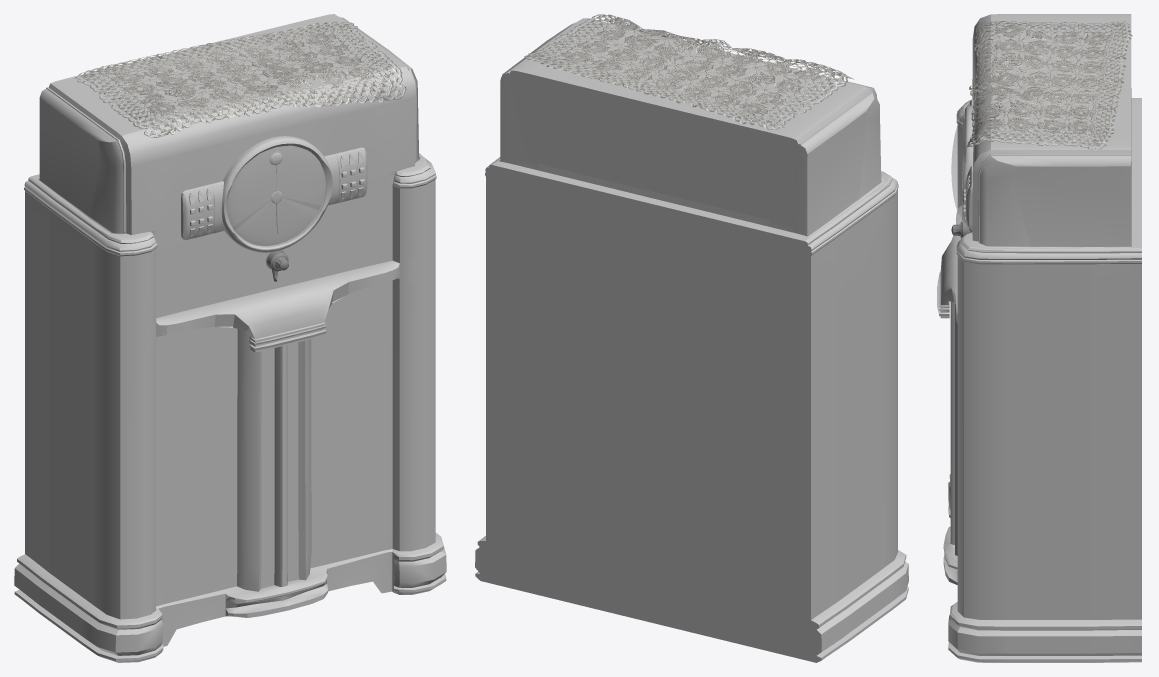
Rendered from Radio_48.fbx.
3 renders of one model, left to right at view 1: azimuth 30°, elevation 25°; view 2: azimuth 150°, elevation 25°; view 3: azimuth 270°, elevation 25°, orthographic. The views are drawn at different scales.
Visible parts, largest first — view 1: Radio_Main, doily, Dial_main, Dial_glass; view 2: Radio_Main, doily; view 3: Radio_Main, doily, Dial_main, Dial_glass.
Part boxes in pixels (x1=…): Radio_Main: x1=14, y1=14, x2=446, y2=662; doily: x1=75, y1=21, x2=406, y2=137; Dial_main: x1=181, y1=136, x2=367, y2=252; Dial_glass: x1=227, y1=146, x2=326, y2=246; Radio_Main: x1=475, y1=18, x2=908, y2=662; doily: x1=524, y1=14, x2=853, y2=129; Radio_Main: x1=937, y1=14, x2=1141, y2=662; doily: x1=964, y1=21, x2=1132, y2=155; Dial_main: x1=961, y1=99, x2=974, y2=231; Dial_glass: x1=951, y1=114, x2=964, y2=217.
Size of the model in its own units: 3.79 by 5.42 by 2.
